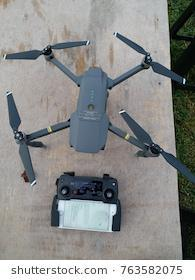drone: (0, 17, 195, 189)
